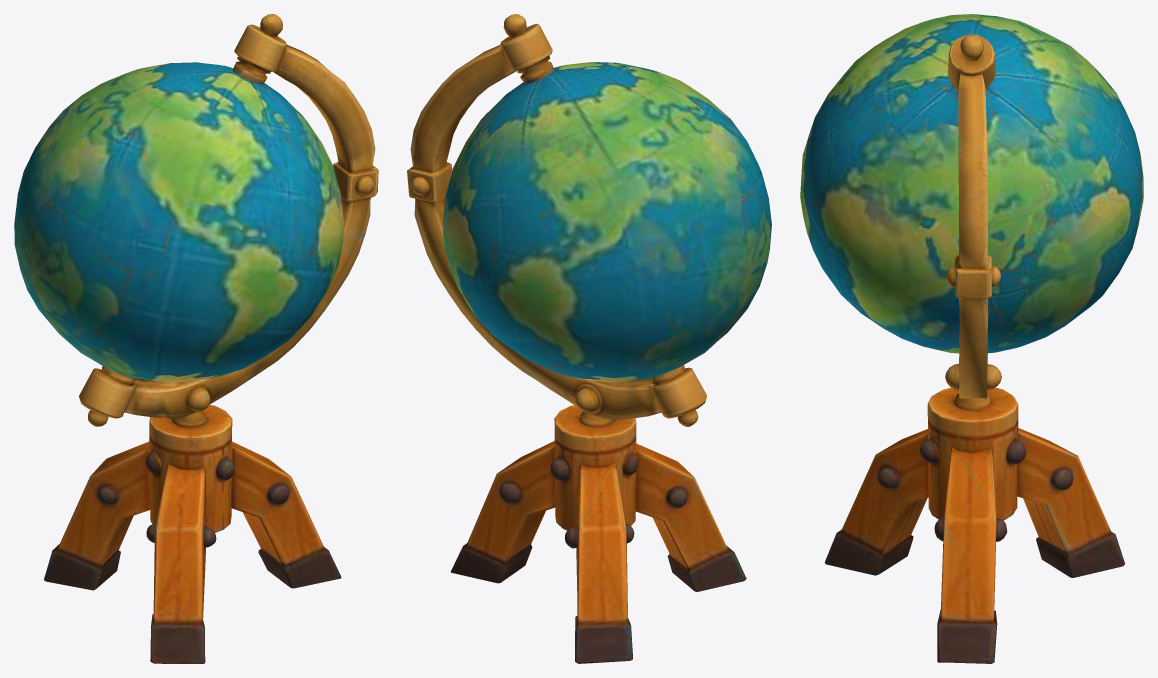
File: trade_globe.glb
3 renders of one model, left to right at view 1: azimuth 30°, elevation 25°; view 2: azimuth 150°, elevation 25°; view 3: azimuth 270°, elevation 25°, orthographic. The views are drawn at different scales.
Bounding box in the file's own units: 0.6258 × 1 × 0.5207.
Materials: 1 (1 with a texture image).
